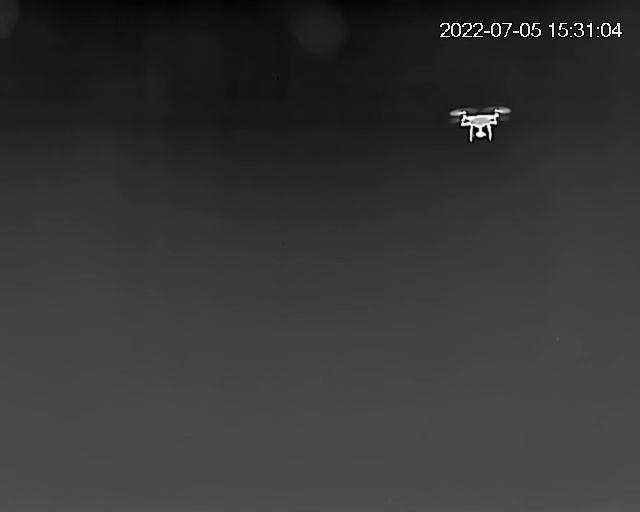DJI-Phantom: (449, 106, 513, 144)
